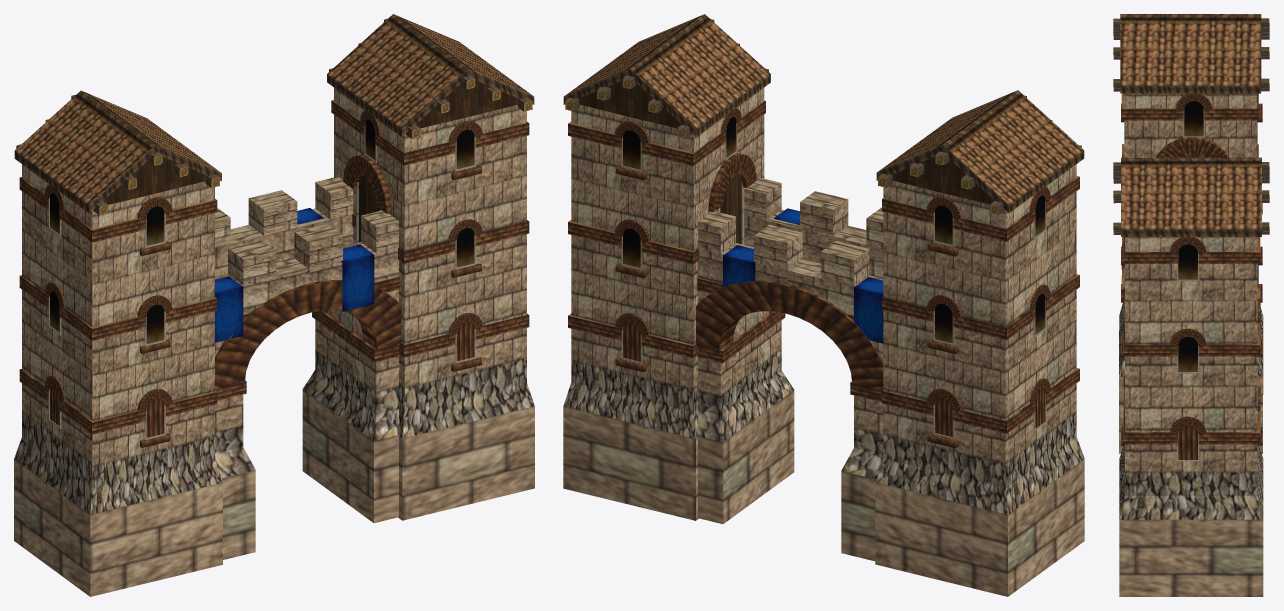
Rendered from wall_gate.dae.
The picture shows the model from 3 angles, left to right: view 1: azimuth 30°, elevation 25°; view 2: azimuth 150°, elevation 25°; view 3: azimuth 270°, elevation 25°; orthographic projection. The views are drawn at different scales.
Visible parts, largest first — view 1: wall_gate; view 2: wall_gate; view 3: wall_gate.
Boxes of the visible parts, x1=… form: wall_gate: x1=14, y1=14, x2=534, y2=596; wall_gate: x1=563, y1=14, x2=1084, y2=596; wall_gate: x1=1113, y1=14, x2=1269, y2=596.
Bounding box in the file's own units: 32.34 × 10.45 × 30.2.
